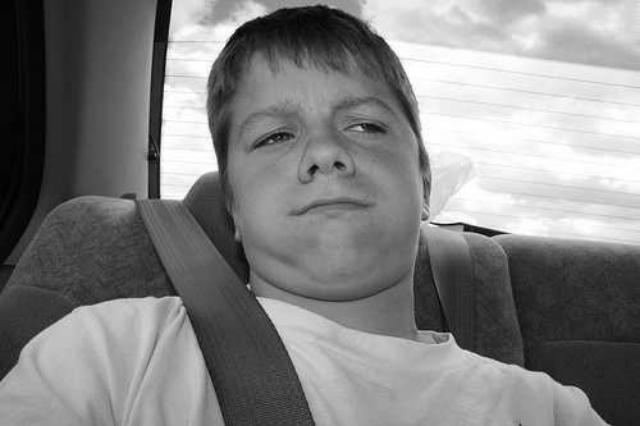SafeDriving: (243, 116, 307, 156), (334, 106, 398, 144)
Seatbelt: (142, 214, 320, 425)
